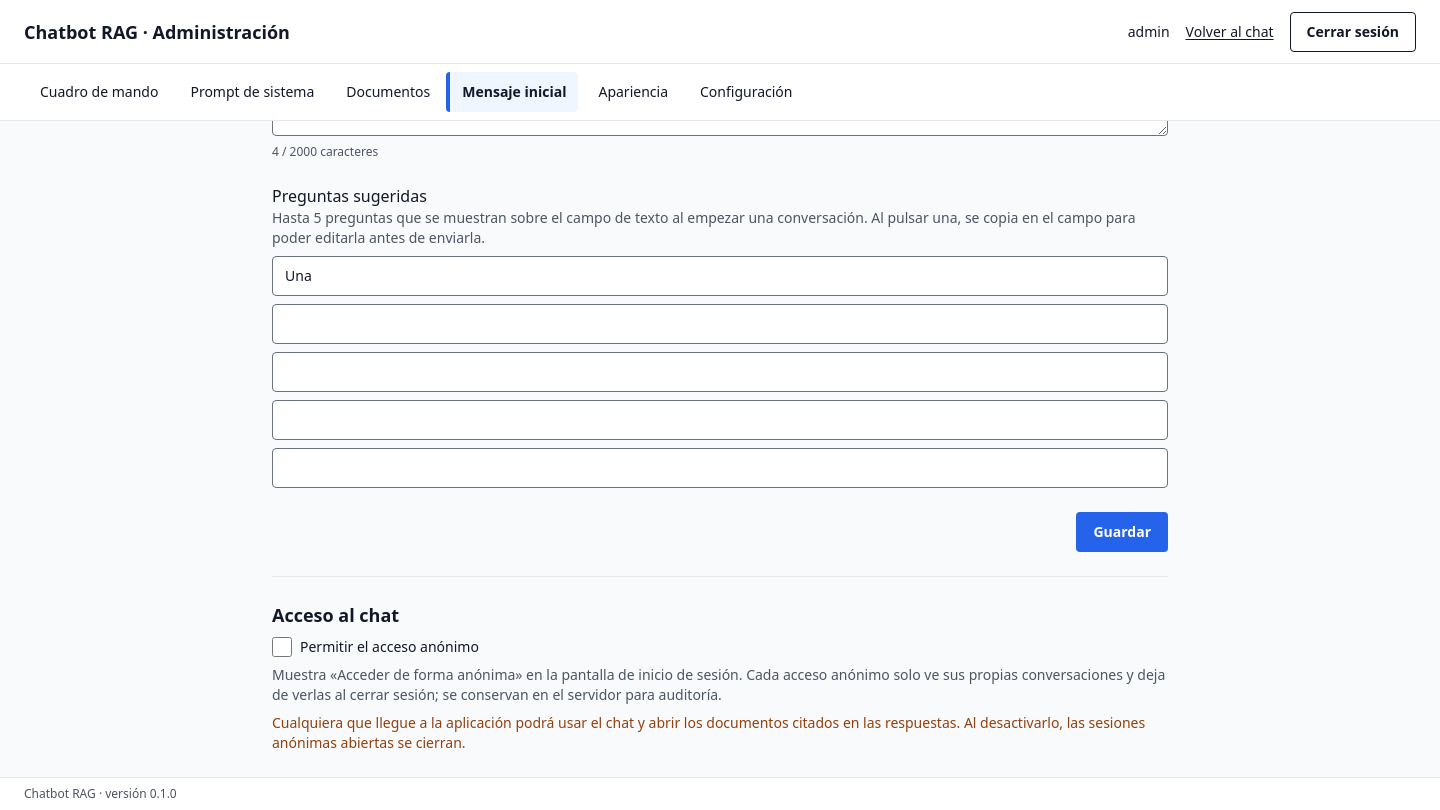
Test case: ChatStartPage › acceso al chat › informa si no se puede guardar
(page scrolled)
What coordinates should you click on to do the following:
click the checkbox
I would click on:
 (282, 647)
Its box is [272,637,292,657].
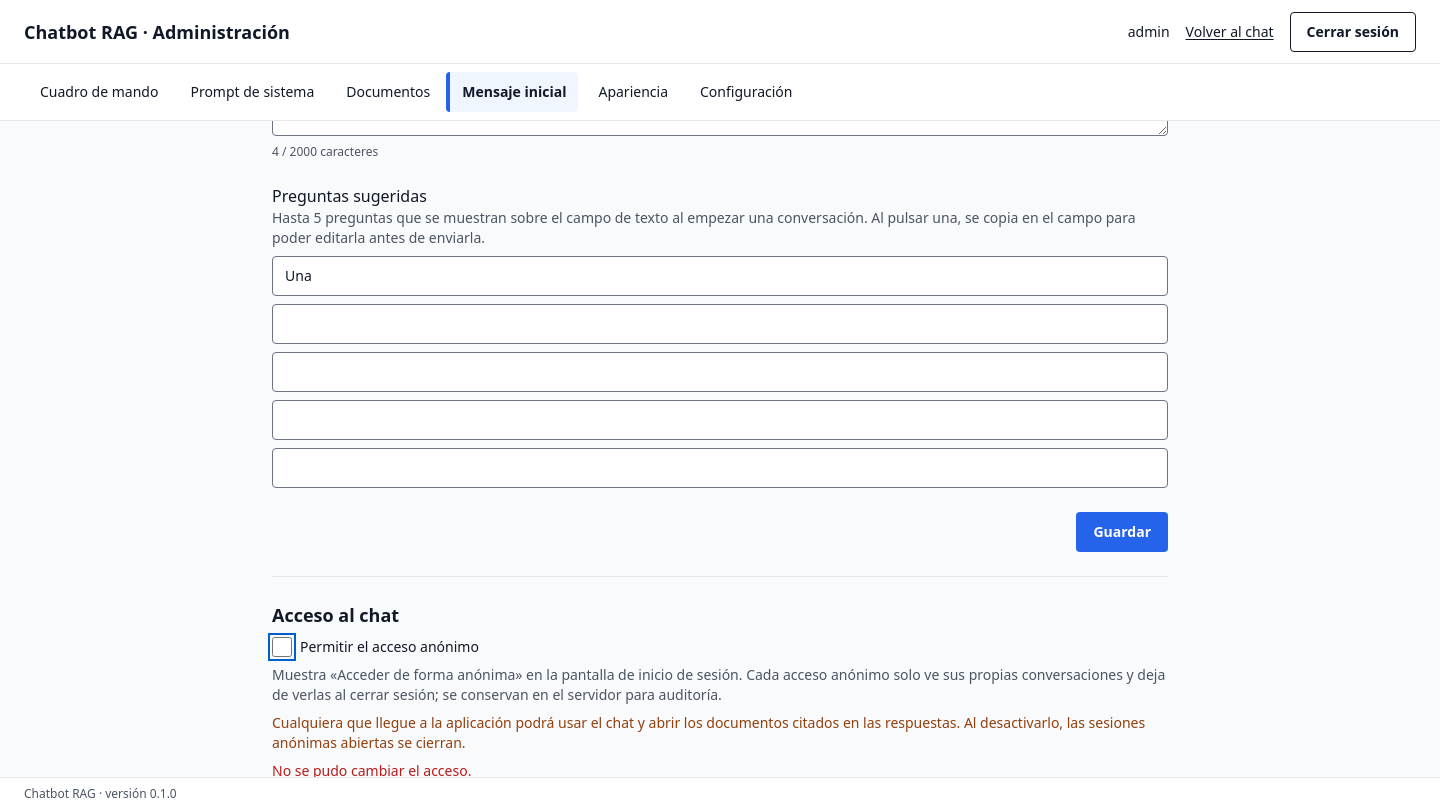
Result: the message reads "No se pudo cambiar el acceso." at [272,761,471,777]
